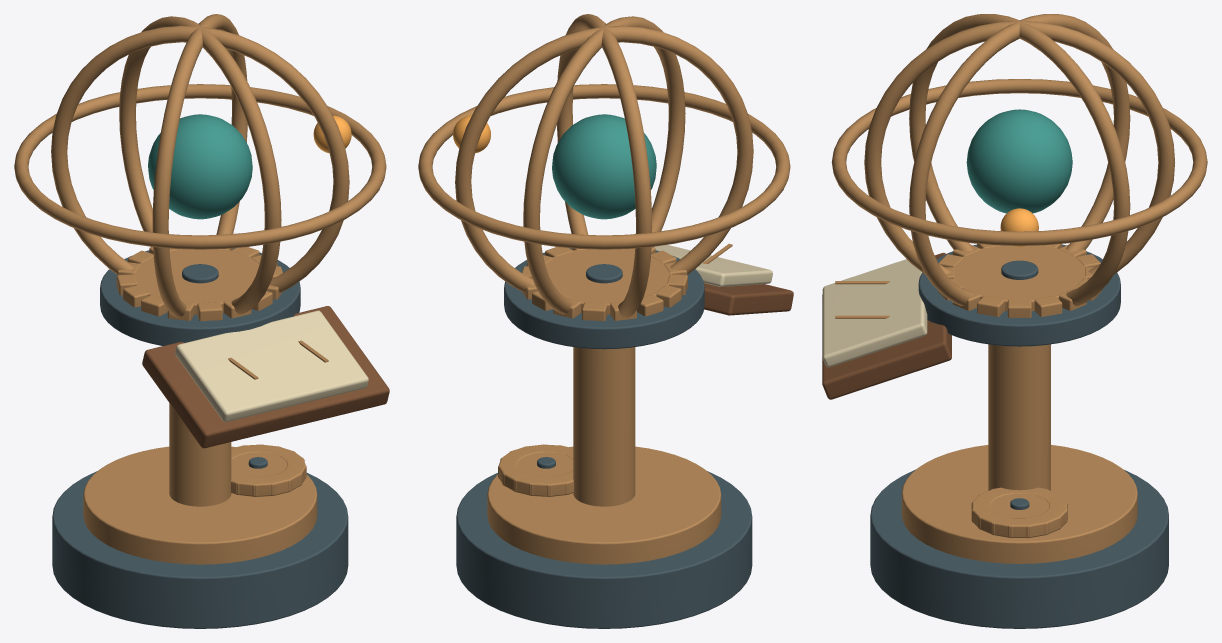
Rendered from Orrery.fbx.
3 renders of one model, left to right at view 1: azimuth 30°, elevation 25°; view 2: azimuth 150°, elevation 25°; view 3: azimuth 270°, elevation 25°, orthographic.
Visible parts, largest first — view 1: Orrery; view 2: Orrery; view 3: Orrery.
Boxes of the visible parts, <box> form: Orrery: <box>14,14,389,628</box>; Orrery: <box>418,14,793,628</box>; Orrery: <box>822,14,1207,628</box>.
Size of the model in its own units: 156 by 160 by 249.
